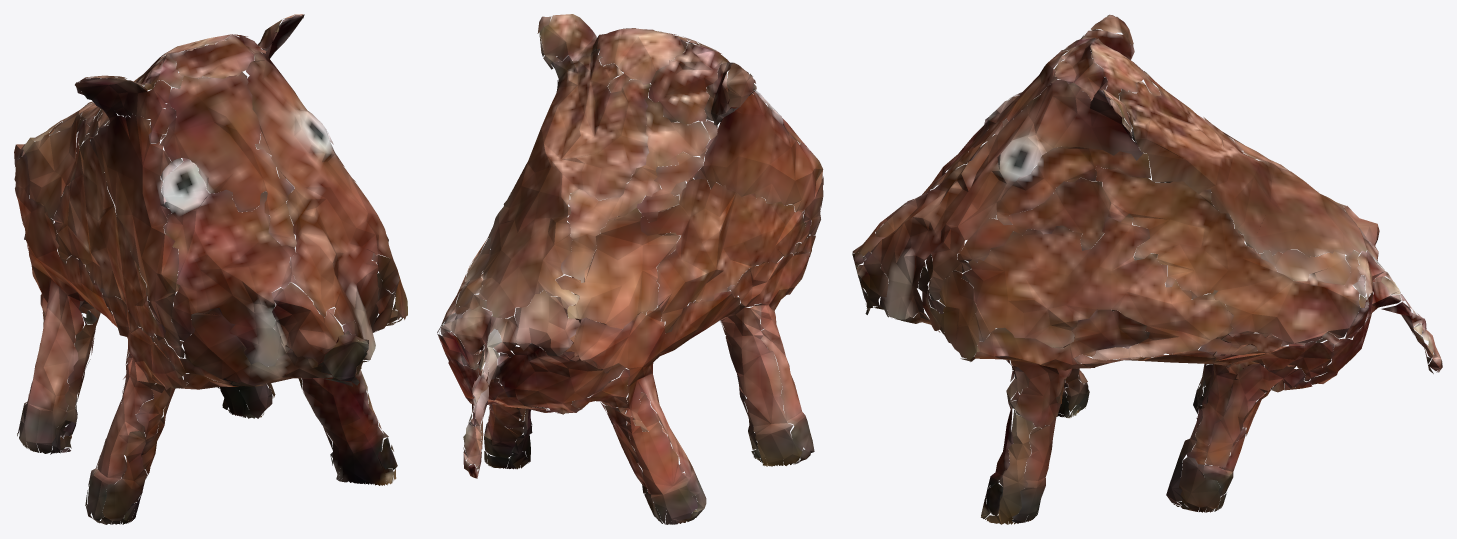
The model's file is inoshi1-min_mt-tx256.glb.
The picture shows the model from 3 angles, left to right: view 1: azimuth 30°, elevation 25°; view 2: azimuth 150°, elevation 25°; view 3: azimuth 270°, elevation 25°; orthographic projection. The views are drawn at different scales.
Visible parts, largest first — view 1: mesh; view 2: mesh; view 3: mesh.
Part boxes in pixels (x1=…): mesh: x1=14, y1=14, x2=407, y2=524; mesh: x1=437, y1=14, x2=823, y2=524; mesh: x1=852, y1=14, x2=1442, y2=524.
Size of the model in its own units: 0.2825 by 0.4139 by 0.541.
1 material, 1 textured.
